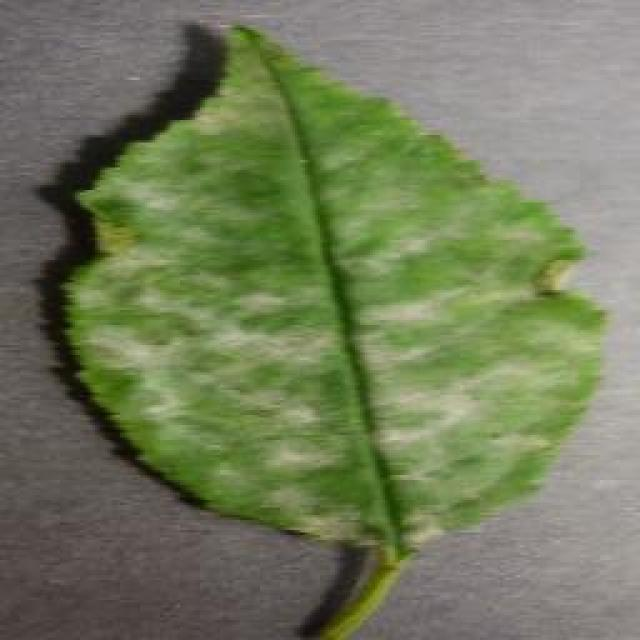Cherry___Powdery_mildew: (102, 157, 517, 480)
